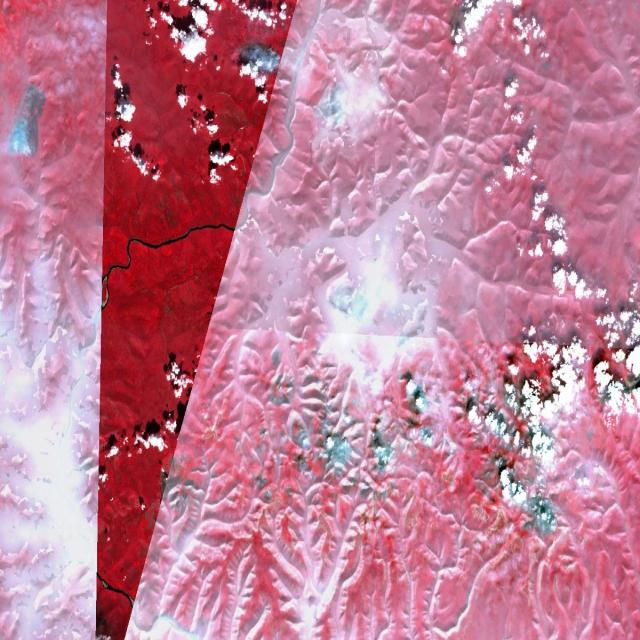fire: (238, 36, 292, 80)
